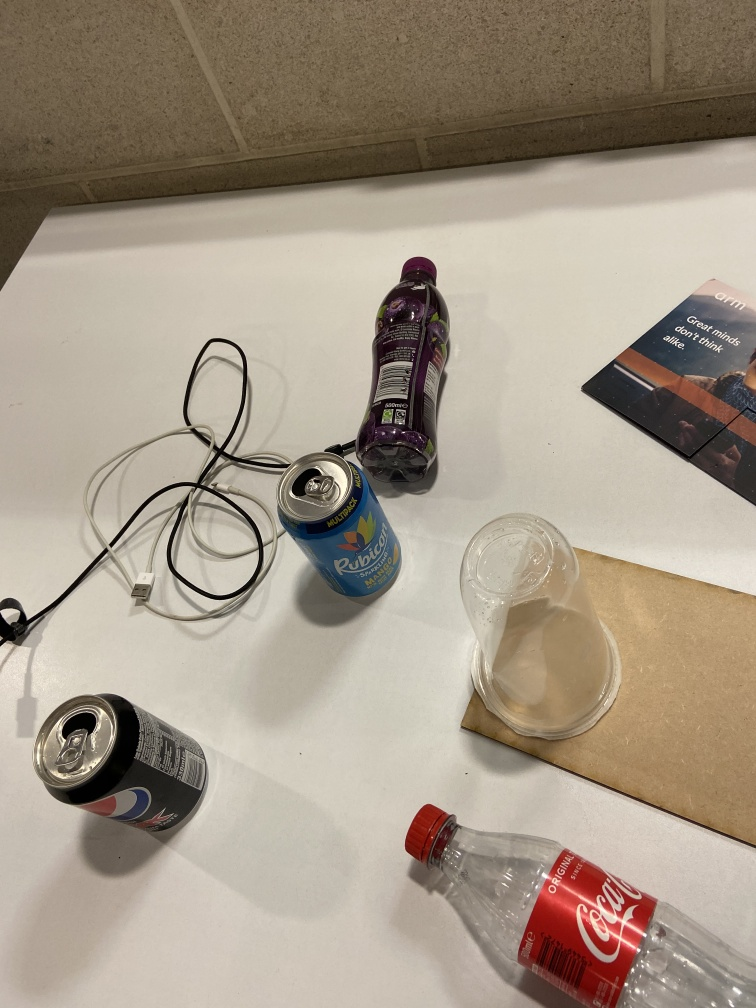bottle_purple: (356, 251, 452, 492)
bottle_red: (378, 784, 756, 1008)
can_black: (29, 688, 216, 836)
can_blue: (274, 449, 405, 599)
